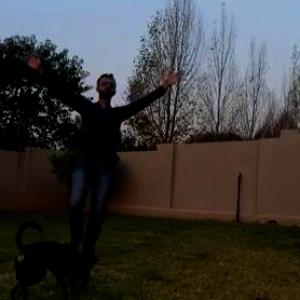takeoff: (0, 41, 185, 264)
